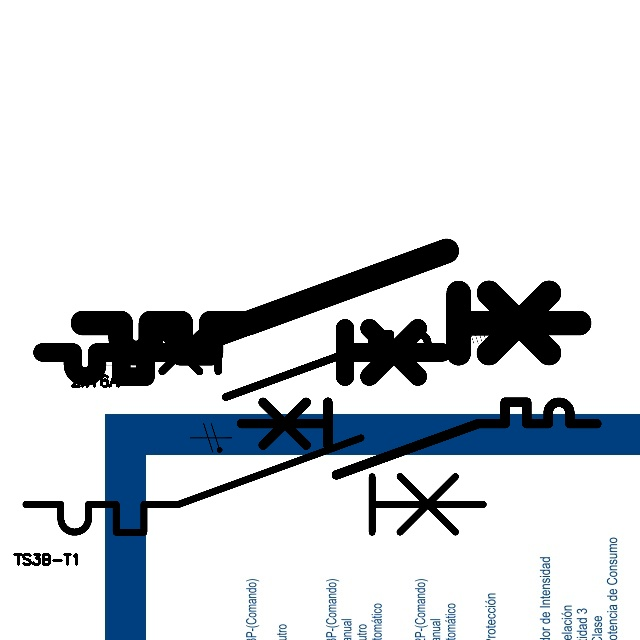interruptor_termomagnetico: (70, 238, 592, 366), (14, 426, 495, 544), (32, 284, 453, 387), (232, 393, 606, 484), (135, 326, 458, 405)
